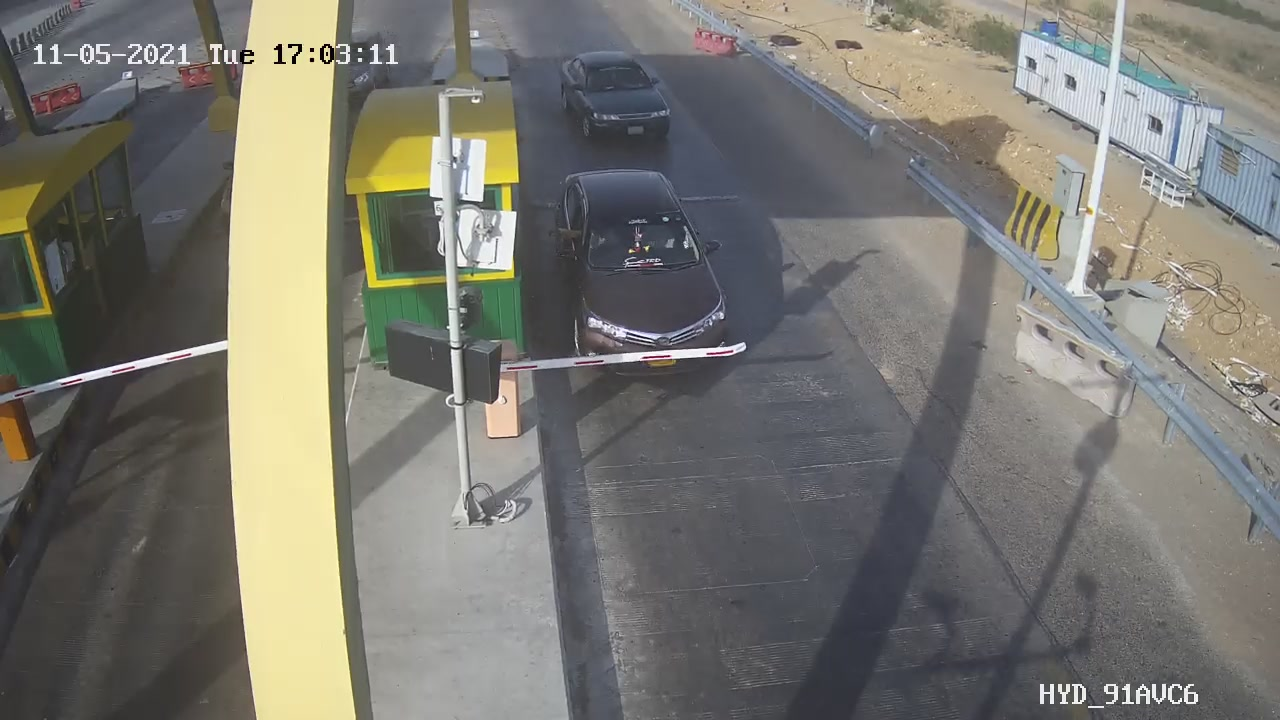F1: (539, 159, 752, 390), (544, 40, 689, 166)
